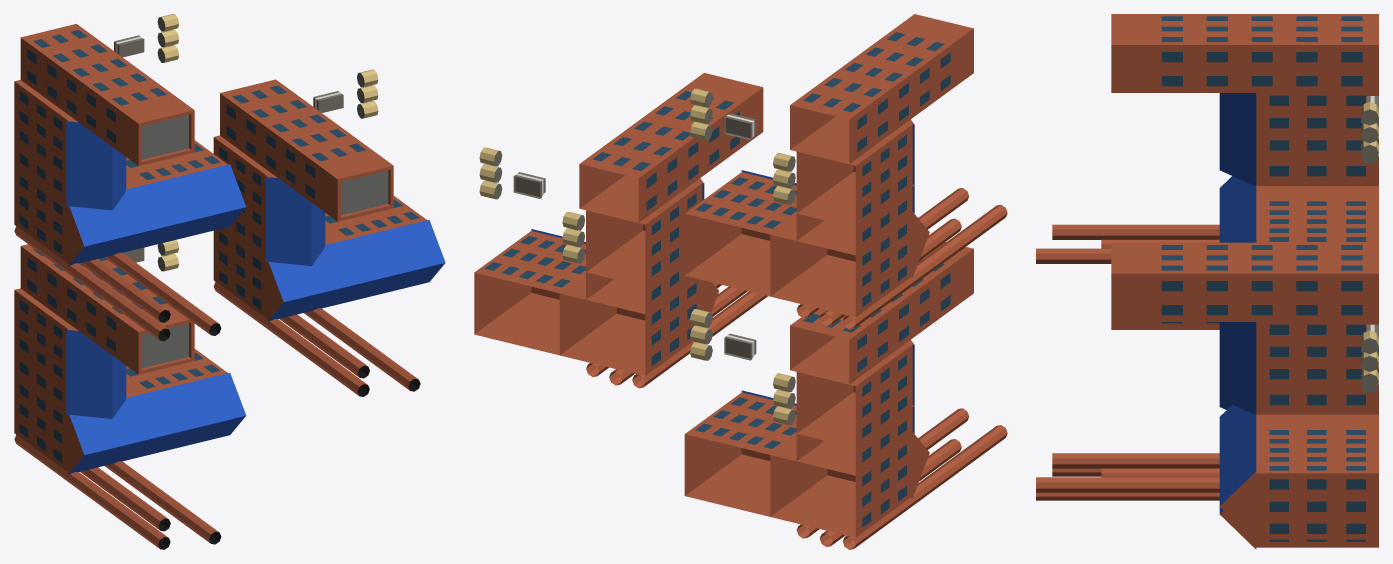
File: complete.glb
The picture shows the model from 3 angles, left to right: view 1: azimuth 30°, elevation 25°; view 2: azimuth 150°, elevation 25°; view 3: azimuth 270°, elevation 25°; orthographic projection. The views are drawn at different scales.
Visible parts, largest first — view 1: t03_g40.003, t22_g40.003, t00_g39.003, t02_g39.003, t21_g39.003, t01_g40.003, t31_g41.003, t10_g41.003, t12_g41.003, t13_g42.003, t32_g42.003, t11_g42.003; view 2: t03_g40.003, t22_g40.003, t00_g39.003, t02_g39.003, t01_g40.003, t21_g39.003, t31_g41.003, t10_g41.003, t12_g41.003, t32_g42.003, t11_g42.003, t13_g42.003; view 3: t22_g40.003, t03_g40.003, t31_g41.003, t21_g39.003, t02_g39.003, t12_g41.003, t00_g39.003, t10_g41.003, t32_g42.003, t13_g42.003, t01_g40.003.
Boxes of the visible parts, x1,y1,x2,y2 form: t03_g40.003: [14, 24, 194, 184]; t22_g40.003: [213, 79, 393, 239]; t00_g39.003: [14, 349, 221, 549]; t02_g39.003: [14, 140, 221, 341]; t21_g39.003: [213, 215, 420, 396]; t01_g40.003: [14, 244, 194, 392]; t31_g41.003: [325, 196, 445, 301]; t10_g41.003: [126, 349, 246, 454]; t12_g41.003: [126, 140, 245, 246]; t13_g42.003: [114, 14, 178, 62]; t32_g42.003: [313, 69, 378, 118]; t11_g42.003: [123, 240, 178, 271]; t03_g40.003: [773, 14, 973, 227]; t22_g40.003: [562, 73, 763, 286]; t00_g39.003: [770, 392, 1007, 549]; t02_g39.003: [770, 172, 1007, 329]; t01_g40.003: [773, 242, 973, 447]; t21_g39.003: [559, 230, 767, 388]; t31_g41.003: [474, 229, 616, 355]; t10_g41.003: [684, 390, 827, 516]; t12_g41.003: [684, 170, 826, 296]; t32_g42.003: [479, 147, 545, 199]; t11_g42.003: [690, 309, 756, 360]; t13_g42.003: [690, 88, 756, 140]; t22_g40.003: [1111, 242, 1378, 393]; t03_g40.003: [1111, 14, 1378, 164]; t31_g41.003: [1219, 426, 1378, 541]; t21_g39.003: [1036, 369, 1378, 492]; t02_g39.003: [1036, 141, 1378, 263]; t12_g41.003: [1219, 198, 1378, 242]; t00_g39.003: [1036, 399, 1231, 500]; t10_g41.003: [1219, 507, 1378, 549]; t32_g42.003: [1361, 324, 1378, 389]; t13_g42.003: [1361, 96, 1378, 160]; t01_g40.003: [1111, 322, 1219, 329].
Bounding box in the file's own units: 58.36 × 62.96 × 42.
